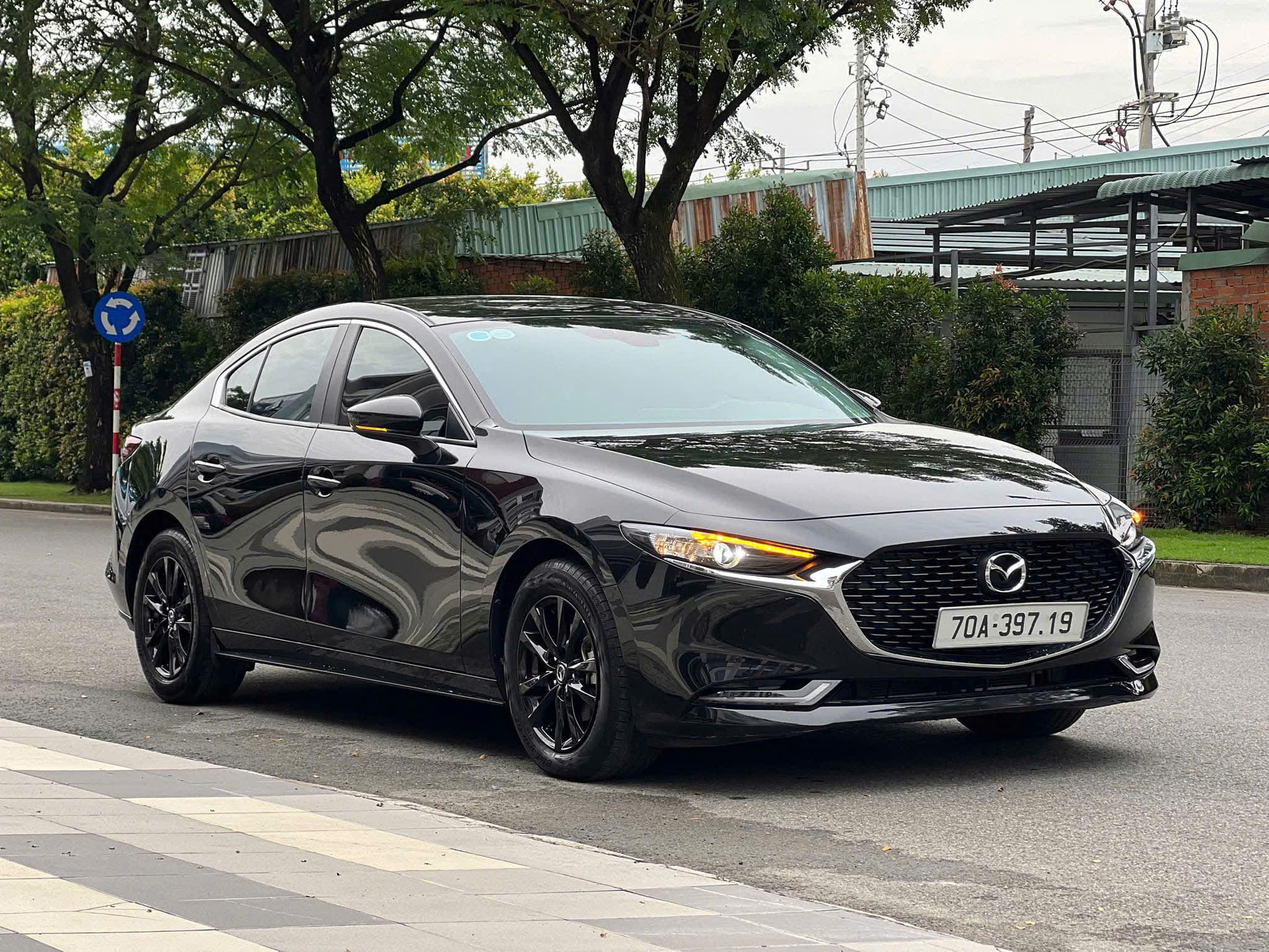Bien-so: (937, 607, 1092, 647)
